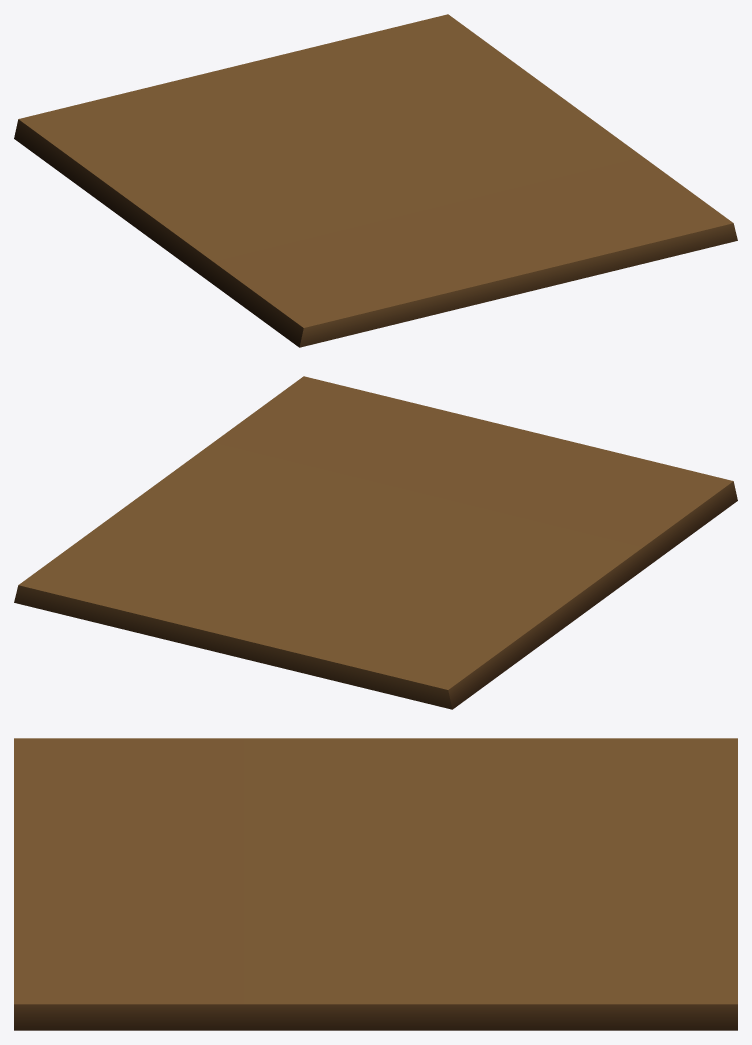
File: BottomEdge_03B.fbx
The picture shows the model from 3 angles, top to bottom: view 1: azimuth 30°, elevation 25°; view 2: azimuth 150°, elevation 25°; view 3: azimuth 270°, elevation 25°; orthographic projection. The views are drawn at different scales.
Parts seen in each view (by area): view 1: BottomEdge_03B; view 2: BottomEdge_03B; view 3: BottomEdge_03B.
Boxes of the visible parts, left/top/right/bottom form: BottomEdge_03B: left=14, top=14, right=737, bottom=347; BottomEdge_03B: left=14, top=376, right=737, bottom=709; BottomEdge_03B: left=14, top=738, right=737, bottom=1030.
Bounding box in the file's own units: 625 × 25.39 × 705.
Materials: 1 (1 with a texture image).
